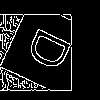D: (25, 25, 81, 78)
